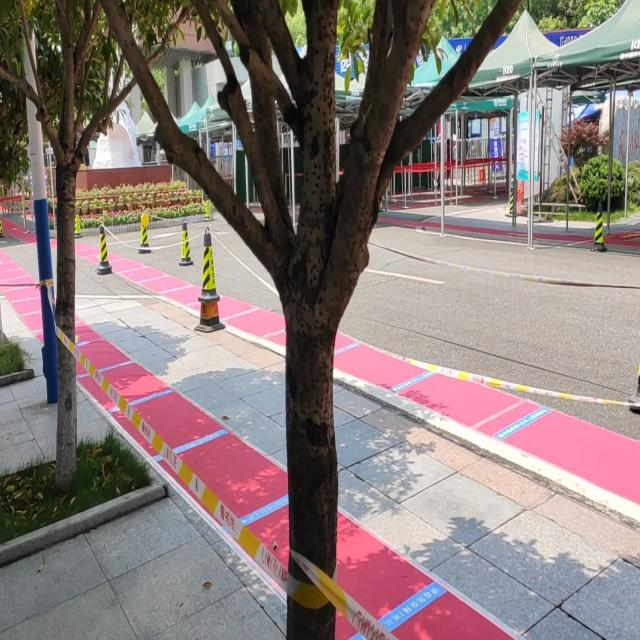pole: (20, 33, 58, 400)
reflective_cone: (197, 225, 220, 302), (193, 300, 225, 333), (590, 198, 607, 252), (96, 224, 112, 274), (178, 218, 194, 266), (138, 213, 152, 253), (74, 208, 83, 238)
